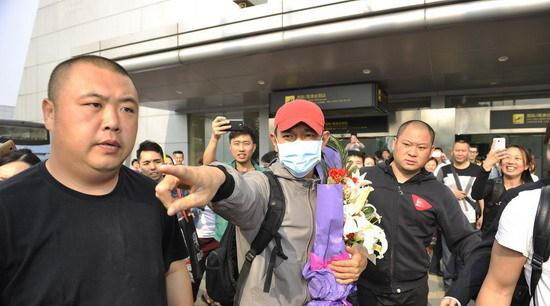NONE: (64, 92, 140, 167), (399, 138, 430, 171), (232, 140, 255, 163), (141, 155, 163, 179), (505, 155, 525, 177), (453, 147, 469, 164)
OK: (280, 126, 323, 170)
